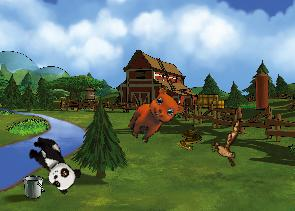bear: (123, 82, 188, 152)
eagle: (206, 118, 249, 170)
panda: (21, 131, 85, 196)
